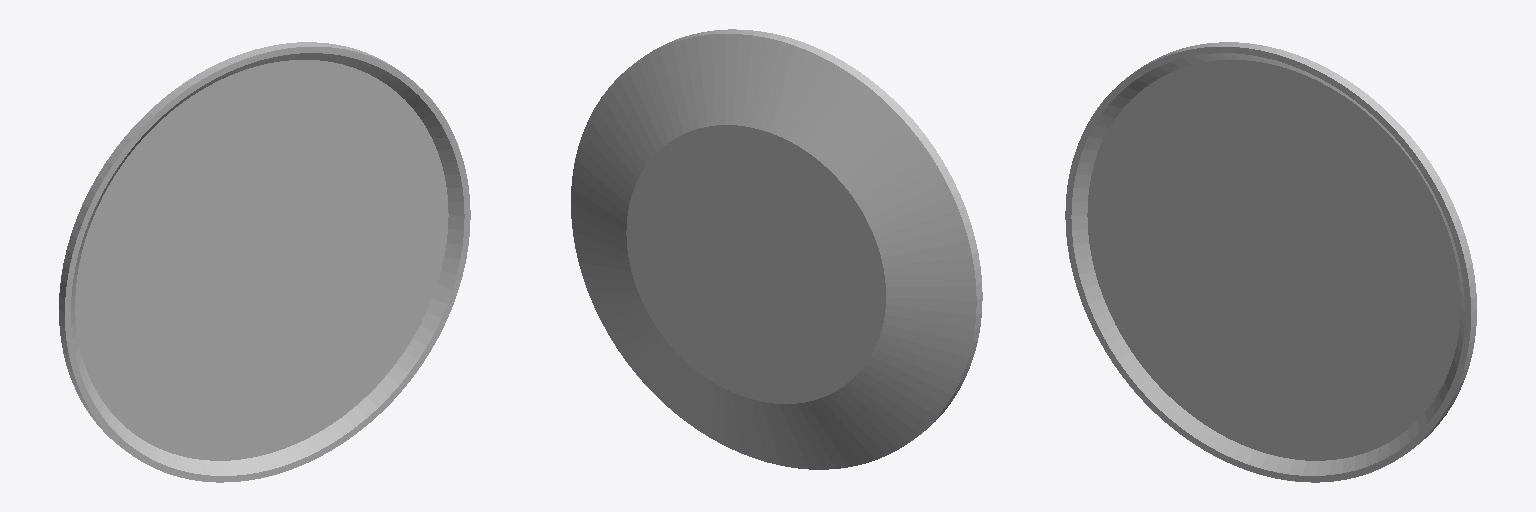
File: dish_rs_gb.obj
3 views of the same model, side by side, from view 1: azimuth 30°, elevation 25°; view 2: azimuth 150°, elevation 25°; view 3: azimuth 330°, elevation 25° (orthographic).
Parts seen in each view (by area): view 1: ____01; view 2: ____01; view 3: ____01.
Boxes of the visible parts, box(x1,y1,x2,y2) form: ____01: box(59, 42, 470, 482); ____01: box(571, 29, 982, 469); ____01: box(1065, 42, 1476, 482).
Bounding box in the file's own units: 0.2 × 0.1999 × 0.02.